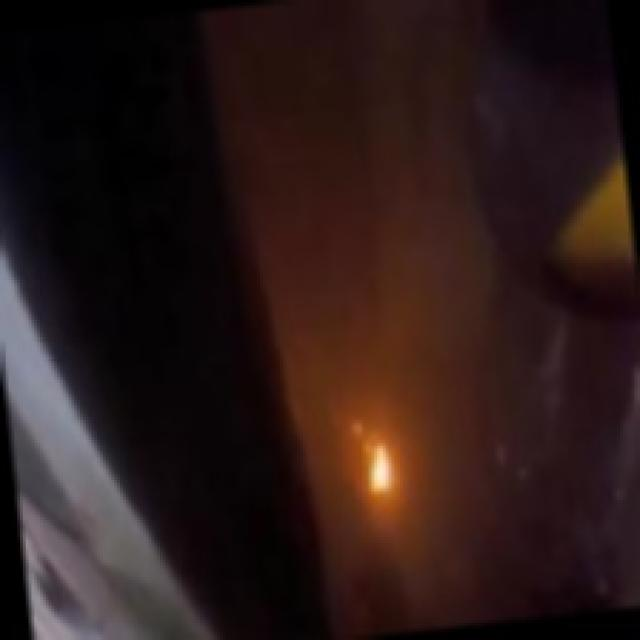fire: (347, 418, 413, 513)
